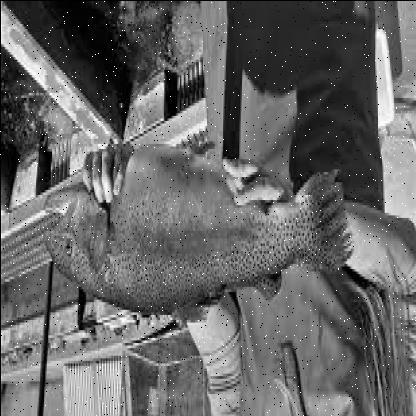fish: (43, 153, 351, 323)
